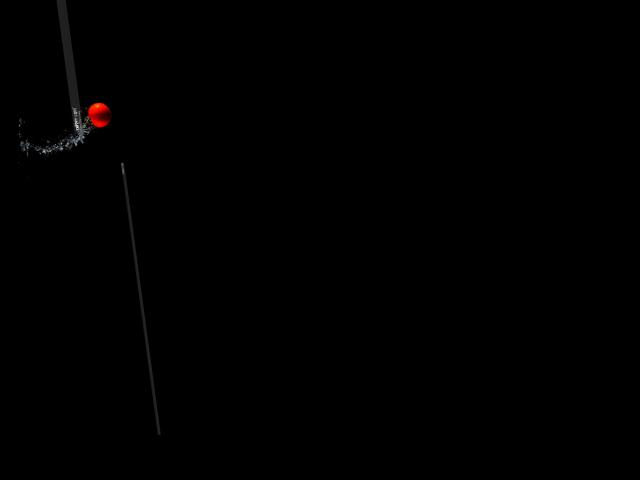tomato: (86, 100, 112, 128)
